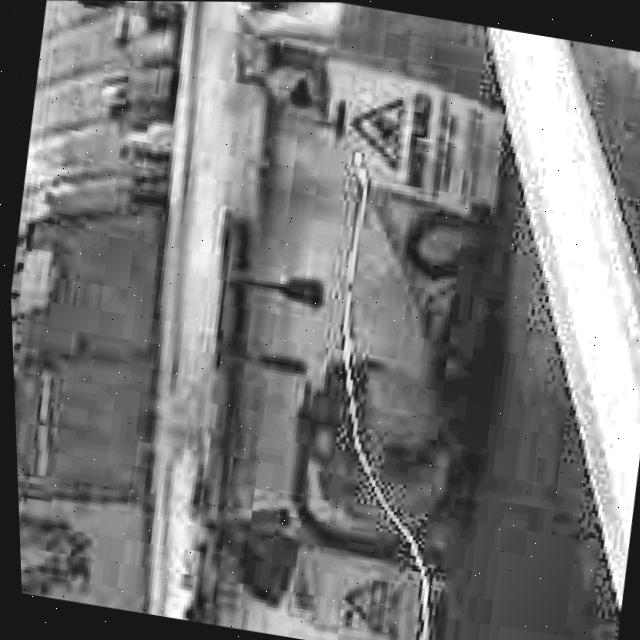door_scratch: (305, 192, 437, 527), (375, 530, 463, 640)
